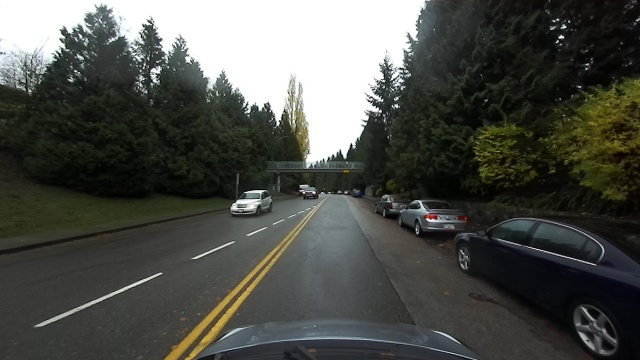car: (459, 205, 637, 355), (397, 199, 466, 236), (226, 188, 275, 221), (373, 192, 407, 218), (301, 187, 318, 199), (350, 188, 364, 199)
